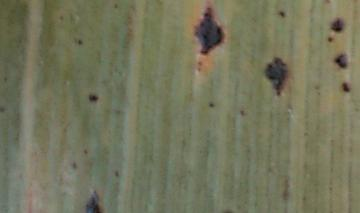tarspot: (192, 6, 227, 56), (263, 57, 290, 97), (86, 190, 102, 213), (331, 16, 345, 33), (334, 52, 348, 69), (341, 80, 351, 93), (87, 93, 100, 103), (277, 10, 287, 19), (75, 36, 84, 46), (112, 168, 121, 178), (207, 100, 216, 109), (238, 109, 247, 117), (72, 159, 79, 169), (327, 35, 334, 43), (82, 148, 89, 155), (113, 3, 119, 9), (1, 106, 6, 113)
